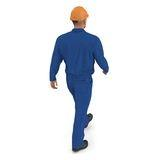helmet: (69, 7, 89, 22)
wear: (61, 32, 95, 77)
